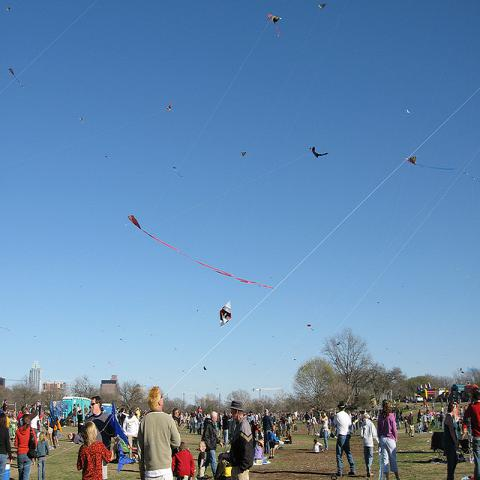car: (412, 395, 424, 402)
